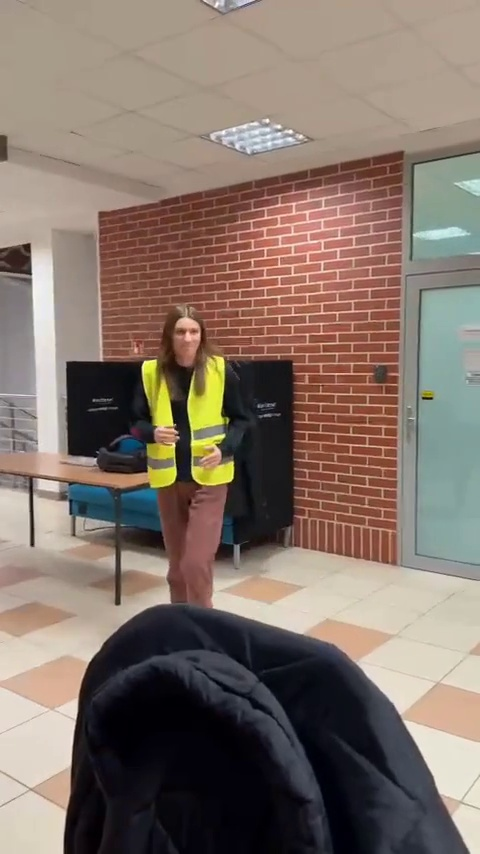vest: (136, 309, 257, 602)
